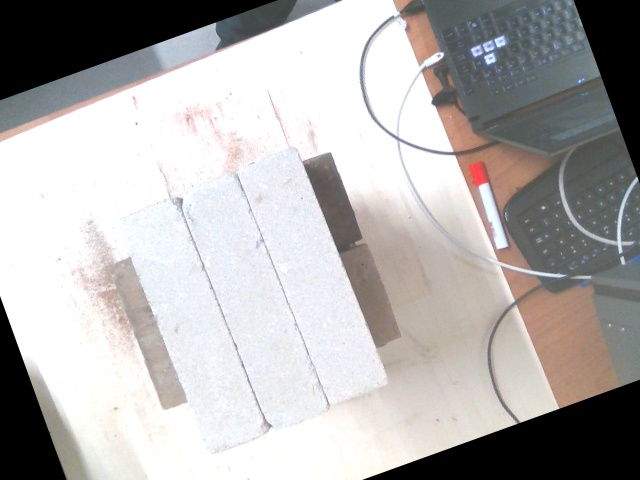brick-side: (175, 170, 327, 427), (115, 197, 267, 454), (236, 149, 388, 406)
